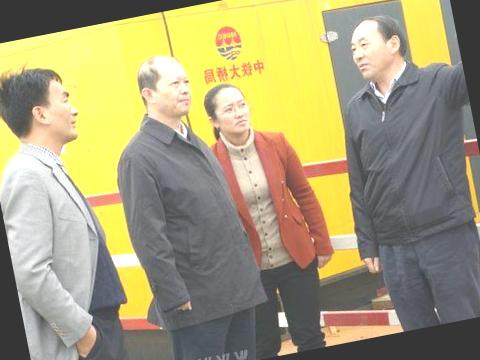no_helmet: (0, 51, 83, 158), (126, 45, 200, 135), (342, 7, 409, 84), (198, 74, 256, 150)
